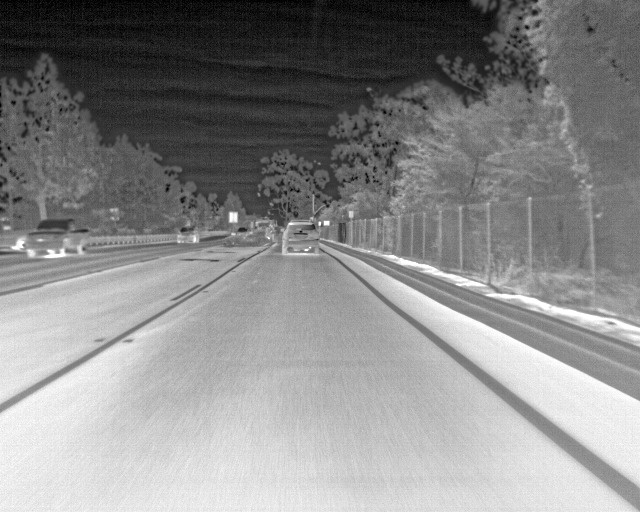vehicle: (27, 220, 87, 264), (283, 219, 323, 257), (176, 224, 201, 245)
